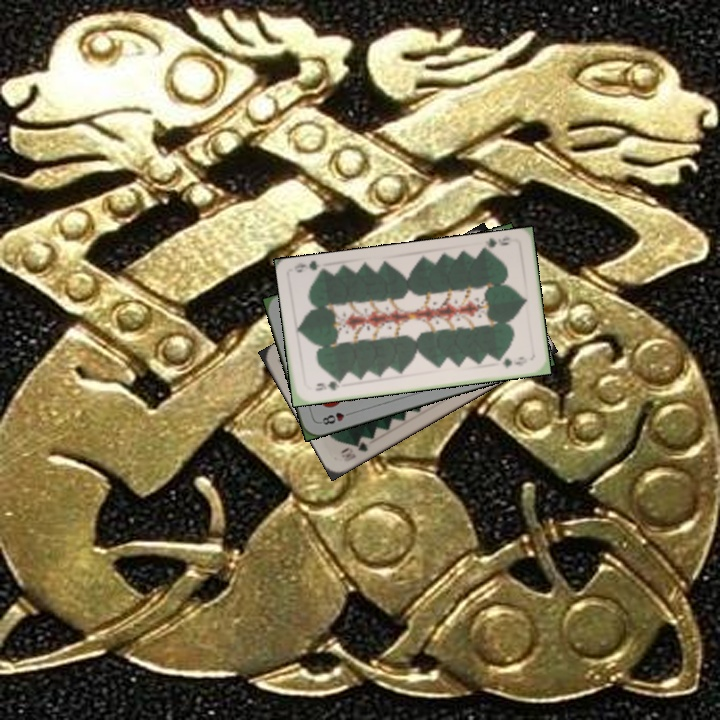G10: (337, 436, 371, 464)
G9: (478, 233, 513, 255), (311, 376, 345, 393)
H8: (316, 408, 355, 427)
